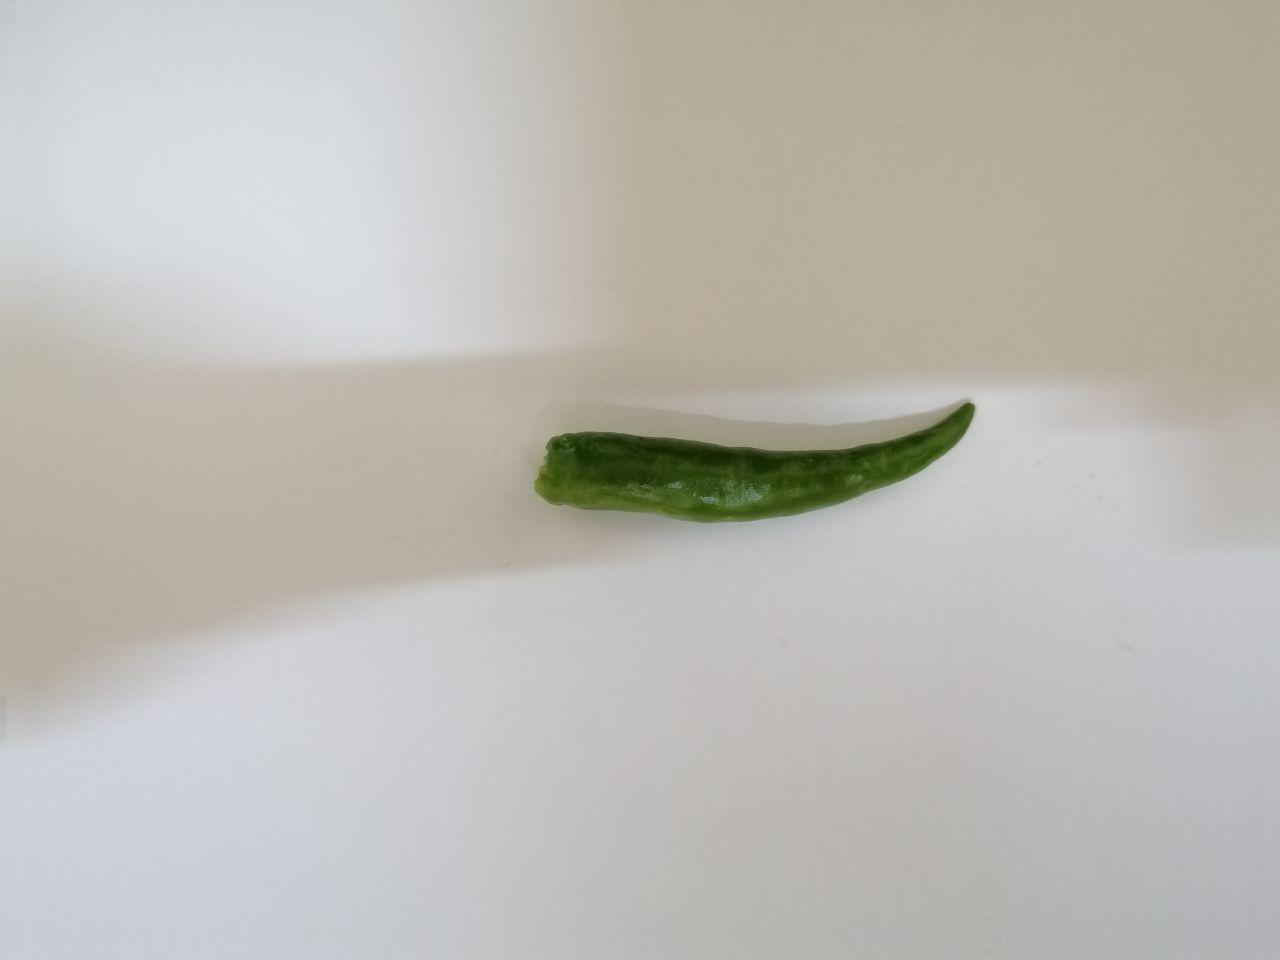lada hijau: (515, 364, 1019, 568)
